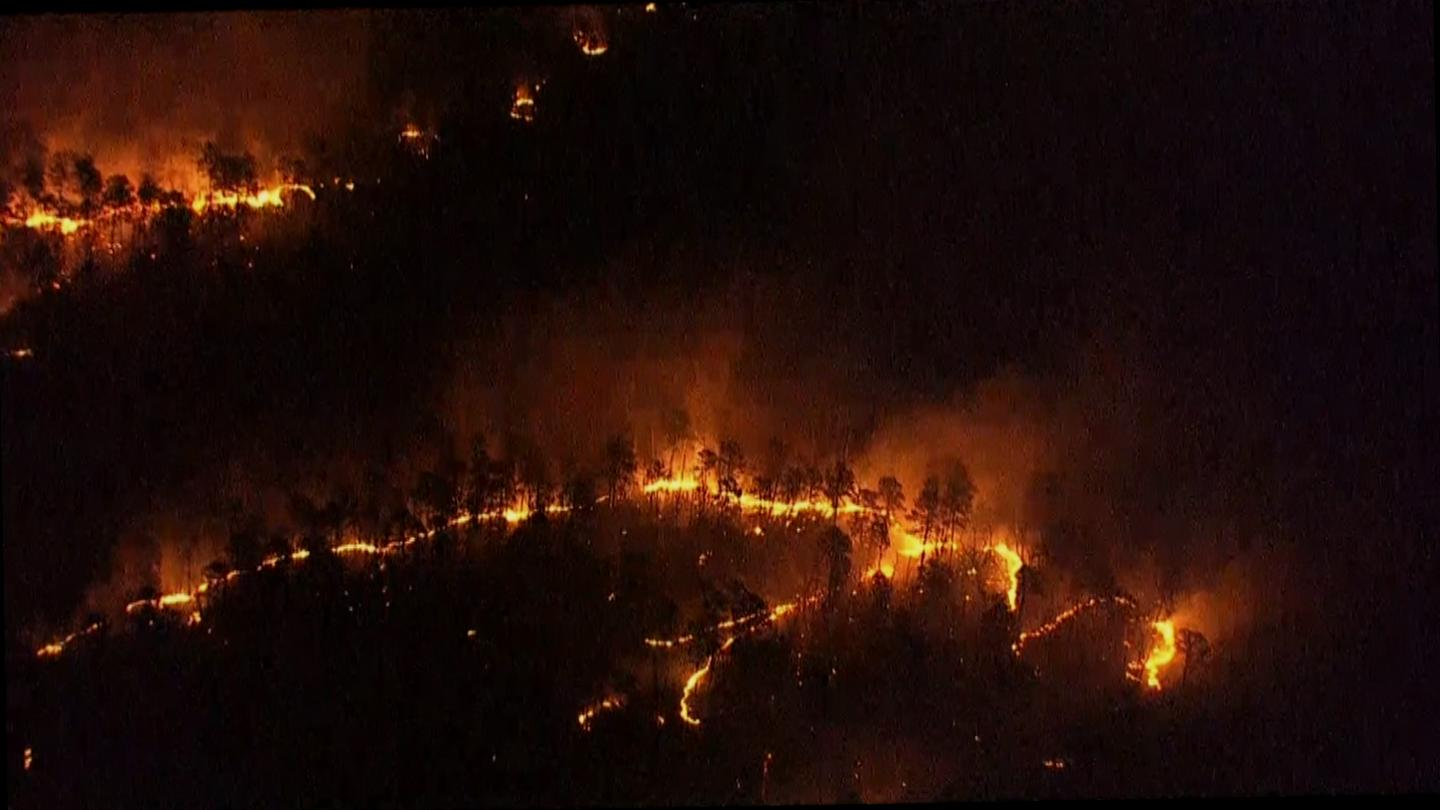fire: (579, 465, 912, 530), (882, 527, 1026, 613), (354, 493, 542, 556), (1136, 601, 1181, 699), (125, 584, 197, 608)
